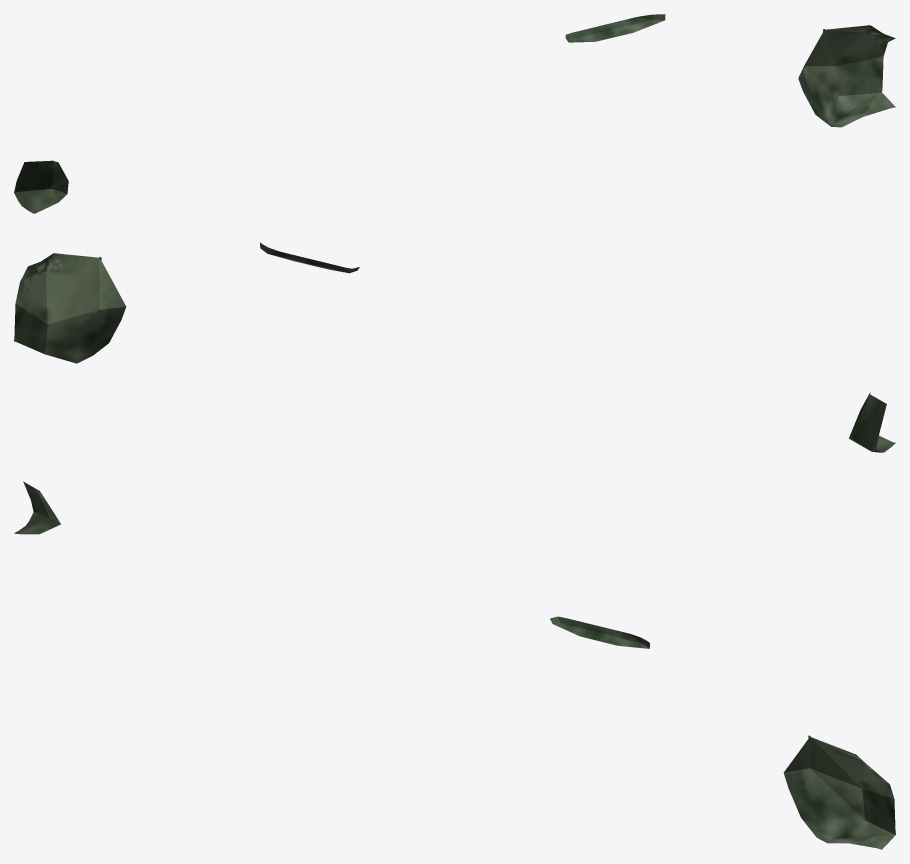
The picture shows the model from 3 angles, top to bottom: view 1: azimuth 30°, elevation 25°; view 2: azimuth 150°, elevation 25°; view 3: azimuth 330°, elevation 25°; orthographic projection.
Size of the model in its own units: 5.9 by 1.03 by 0.2466.
1 material, 1 textured.
